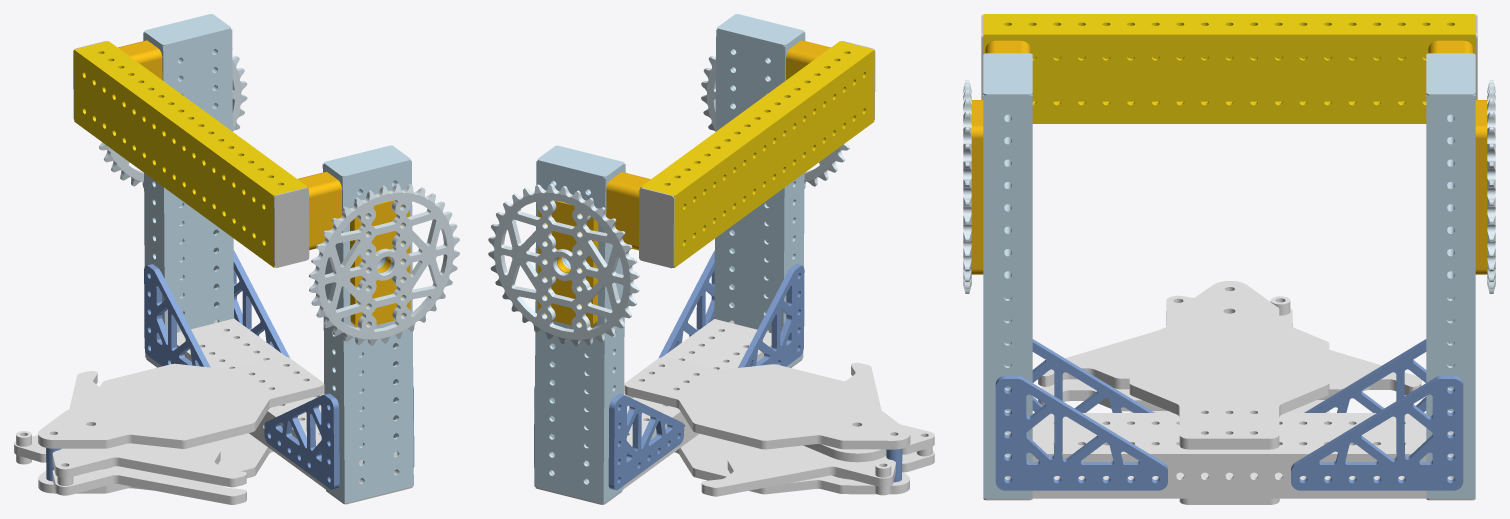
3 renders of one model, left to right at view 1: azimuth 30°, elevation 25°; view 2: azimuth 150°, elevation 25°; view 3: azimuth 270°, elevation 25°, orthographic. The views are drawn at different scales.
Parts seen in each view (by area): view 1: 0500-Tube-04, 0500-Plate-04, 0500-Tube-02, 0500-Tube-02.001, 0500-Custom-01.001, 0500-Plate-05, 0500-Plate-06.001, 0500-Tube-03, 0500-Plate-06.003, 0500-Plate-05.002, 0500-Print-03, 0500-Print-01 (+8 smaller); view 2: 0500-Tube-04, 0500-Plate-04, 0500-Tube-02.001, 0500-Tube-02, 0500-Custom-01, 0500-Plate-05.001, 0500-Plate-06.003, 0500-Tube-03, 0500-Plate-06.001, 0500-Plate-04.001, 0500-Print-03.003, 0500-Plate-05 (+8 smaller); view 3: 0500-Tube-04, 0500-Plate-04, 0500-Tube-03, 0500-Tube-02, 0500-Tube-02.001, 0500-Plate-06, 0500-Plate-06.002, 0500-Plate-05, 0500-Plate-06.001, 0500-Plate-06.003, 0500-Print-02, 0500-Print-02.001 (+9 smaller).
Part boxes in pixels (left/top/right/bottom): 0500-Tube-04: left=74, top=41, right=308, bottom=267; 0500-Plate-04: left=38, top=356, right=323, bottom=448; 0500-Tube-02: left=322, top=160, right=413, bottom=503; 0500-Tube-02.001: left=143, top=29, right=233, bottom=366; 0500-Custom-01.001: left=309, top=183, right=459, bottom=345; 0500-Plate-05: left=52, top=442, right=246, bottom=487; 0500-Plate-06.001: left=264, top=393, right=339, bottom=489; 0500-Tube-03: left=177, top=318, right=324, bottom=488; 0500-Plate-06.003: left=144, top=264, right=210, bottom=367; 0500-Plate-05.002: left=52, top=466, right=246, bottom=504; 0500-Print-03: left=273, top=187, right=309, bottom=267; 0500-Print-01: left=350, top=200, right=410, bottom=326; 0500-Tube-04: left=640, top=41, right=874, bottom=267; 0500-Plate-04: left=624, top=357, right=910, bottom=449; 0500-Tube-02.001: left=534, top=160, right=625, bottom=503; 0500-Tube-02: left=714, top=29, right=805, bottom=367; 0500-Custom-01: left=488, top=184, right=639, bottom=346; 0500-Plate-05.001: left=701, top=445, right=895, bottom=496; 0500-Plate-06.003: left=608, top=394, right=684, bottom=490; 0500-Tube-03: left=623, top=319, right=771, bottom=488; 0500-Plate-06.001: left=738, top=264, right=804, bottom=367; 0500-Plate-04.001: left=674, top=434, right=909, bottom=494; 0500-Print-03.003: left=639, top=188, right=674, bottom=268; 0500-Plate-05: left=803, top=362, right=934, bottom=462; 0500-Tube-04: left=983, top=14, right=1475, bottom=123; 0500-Plate-04: left=1129, top=281, right=1329, bottom=449; 0500-Tube-03: left=1032, top=413, right=1426, bottom=498; 0500-Tube-02: left=983, top=95, right=1032, bottom=498; 0500-Tube-02.001: left=1426, top=95, right=1475, bottom=498; 0500-Plate-06: left=995, top=375, right=1167, bottom=490; 0500-Plate-06.002: left=1291, top=375, right=1463, bottom=490; 0500-Plate-05: left=1038, top=295, right=1193, bottom=389; 0500-Plate-06.001: left=1032, top=339, right=1154, bottom=412; 0500-Plate-06.003: left=1304, top=339, right=1426, bottom=412; 0500-Print-02: left=1426, top=53, right=1475, bottom=276; 0500-Print-02.001: left=983, top=53, right=1032, bottom=276.
Bounding box in the file's own units: 0.2292 × 0.2333 × 0.2706.
